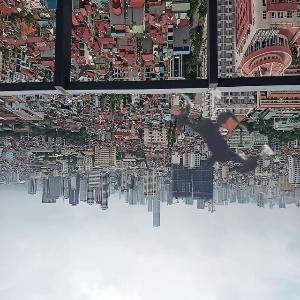drone: (134, 55, 299, 220)
